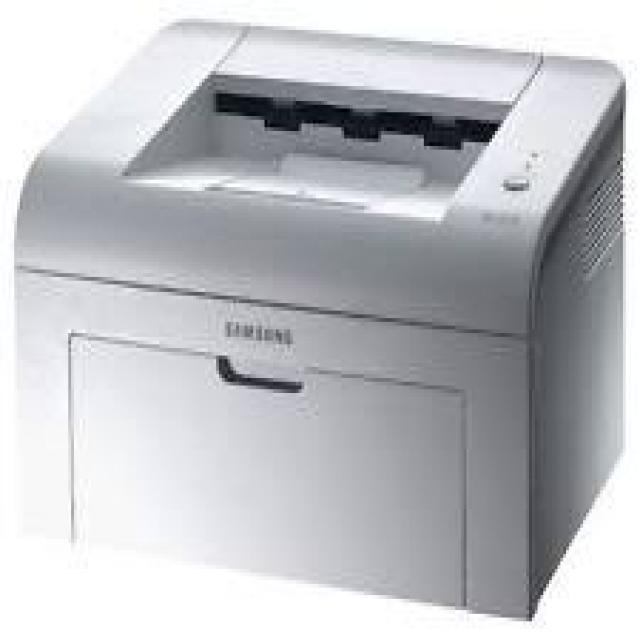printer: (11, 16, 628, 623)
